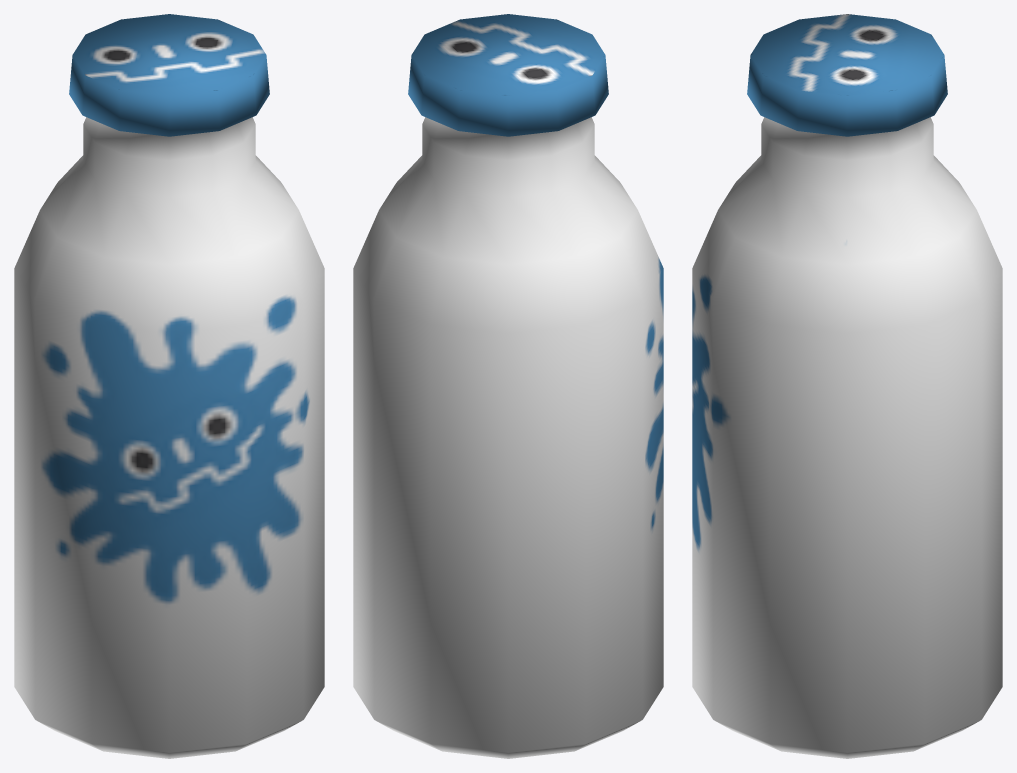
The model's file is MilkBottle.glb.
3 views of the same model, side by side, from view 1: azimuth 30°, elevation 25°; view 2: azimuth 150°, elevation 25°; view 3: azimuth 270°, elevation 25° (orthographic).
Parts seen in each view (by area): view 1: MilkContent; view 2: MilkContent; view 3: MilkContent.
Boxes of the visible parts, x1,y1,x2,y2 form: MilkContent: (14,14,324,758); MilkContent: (353,14,663,758); MilkContent: (692,14,1002,758).
Bounding box in the file's own units: 0.21 × 0.4843 × 0.21.
3 materials, 2 textured.
